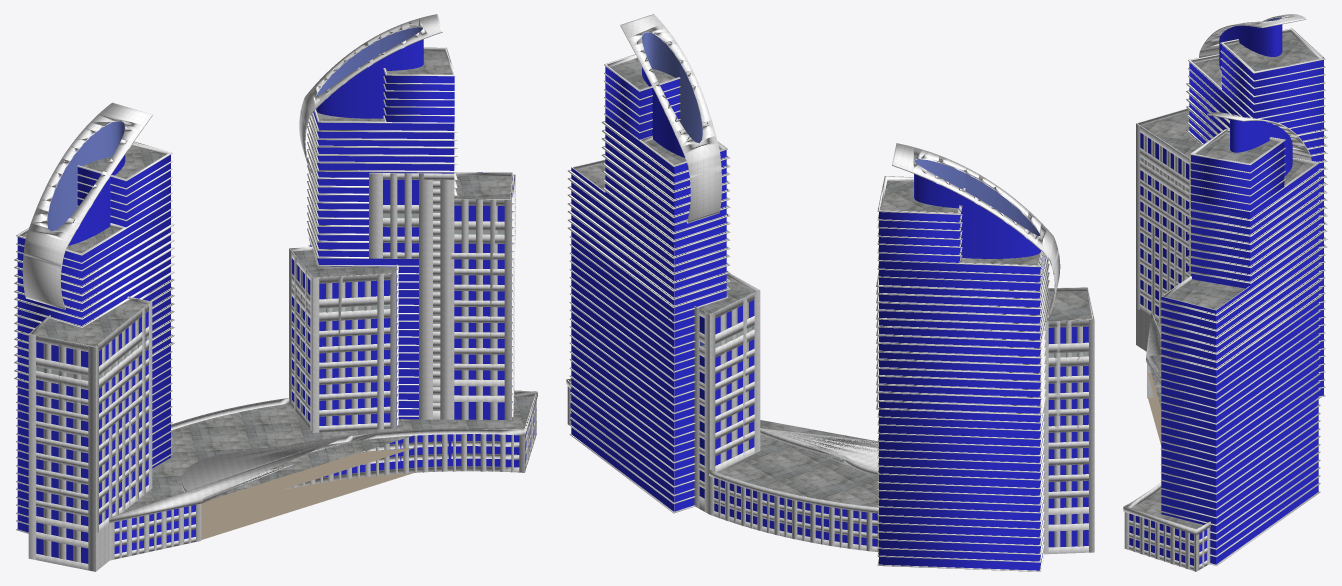
Rendered from 002oneObj_zUP.obj.
3 renders of one model, left to right at view 1: azimuth 30°, elevation 25°; view 2: azimuth 150°, elevation 25°; view 3: azimuth 270°, elevation 25°, orthographic. The views are drawn at different scales.
Visible parts, largest first — view 1: Obj3d66_592002_170_389; view 2: Obj3d66_592002_170_389; view 3: Obj3d66_592002_170_389.
Part boxes in pixels (bbox=[...]): Obj3d66_592002_170_389: bbox=[14, 14, 537, 571]; Obj3d66_592002_170_389: bbox=[566, 14, 1094, 571]; Obj3d66_592002_170_389: bbox=[1123, 14, 1327, 571].
Size of the model in its own units: 21200 by 16748 by 7456.
